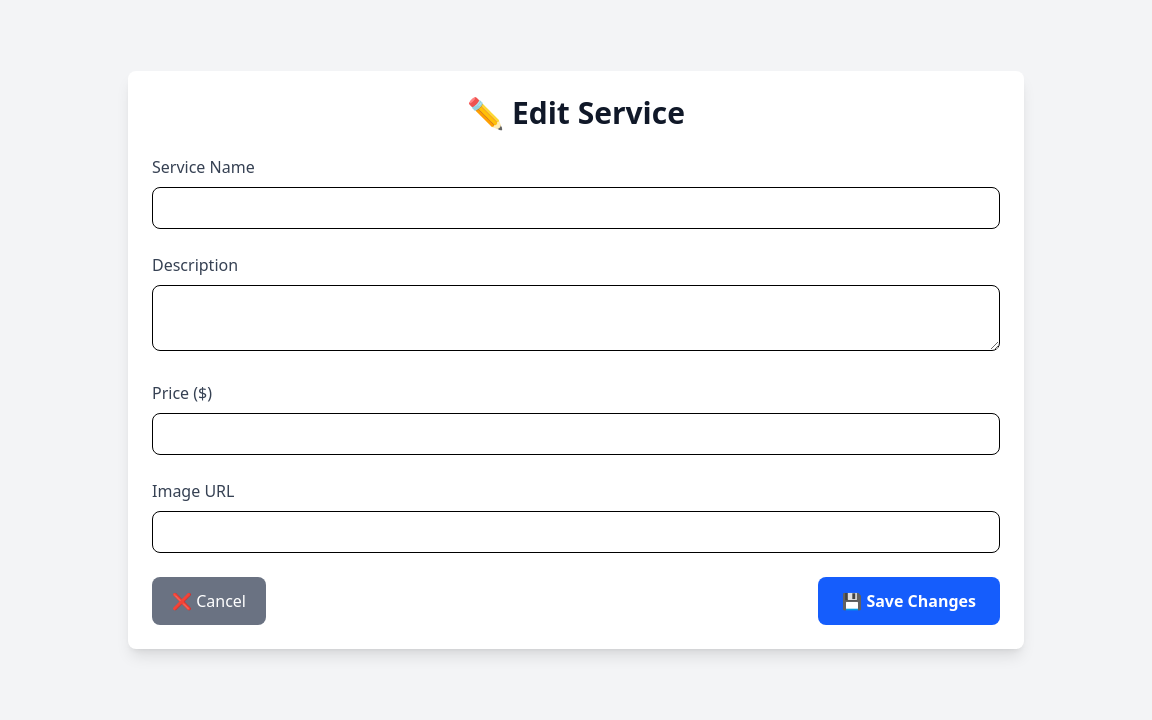
Test: ServiceEdit component › should show validation errors for invalid input
Click the button "💾 Save Changes": (909, 601) [818,577,1000,625]
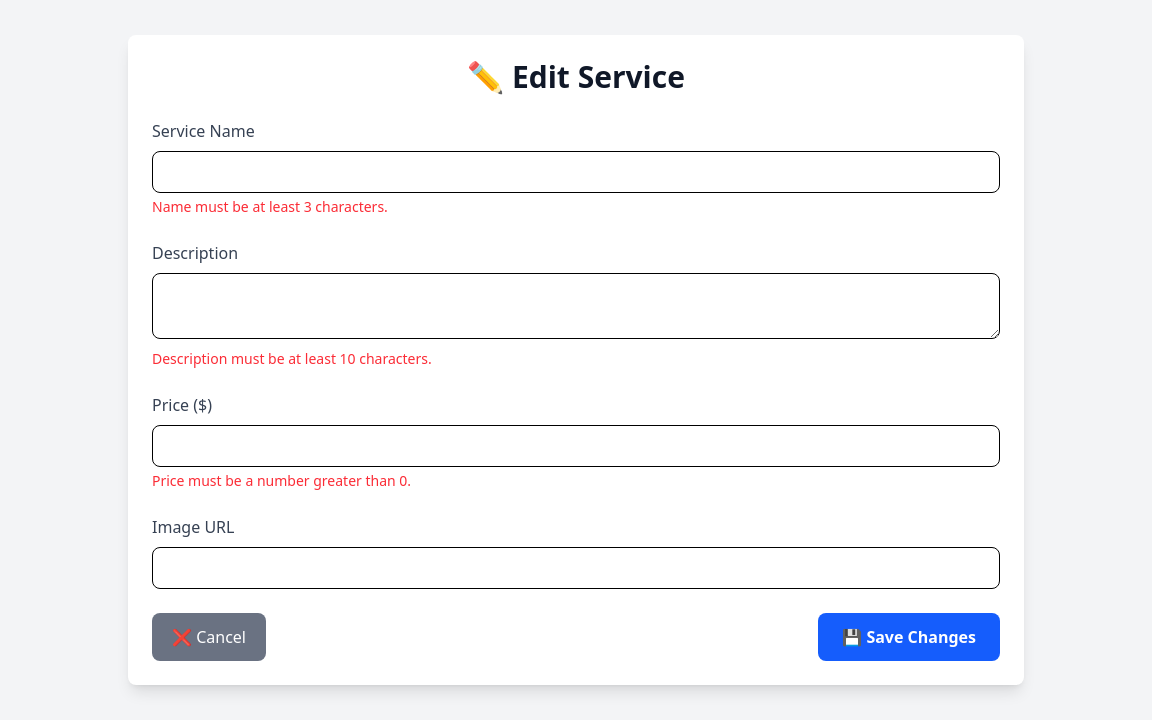
Expected: the text "Name must be at least 3 characters." is shown, [152,197,388,216]
Expected: the text "Description must be at least 10 characters." is shown, [152,349,432,368]
Expected: the text "Price must be a number greater than 0." is shown, [152,471,411,490]
